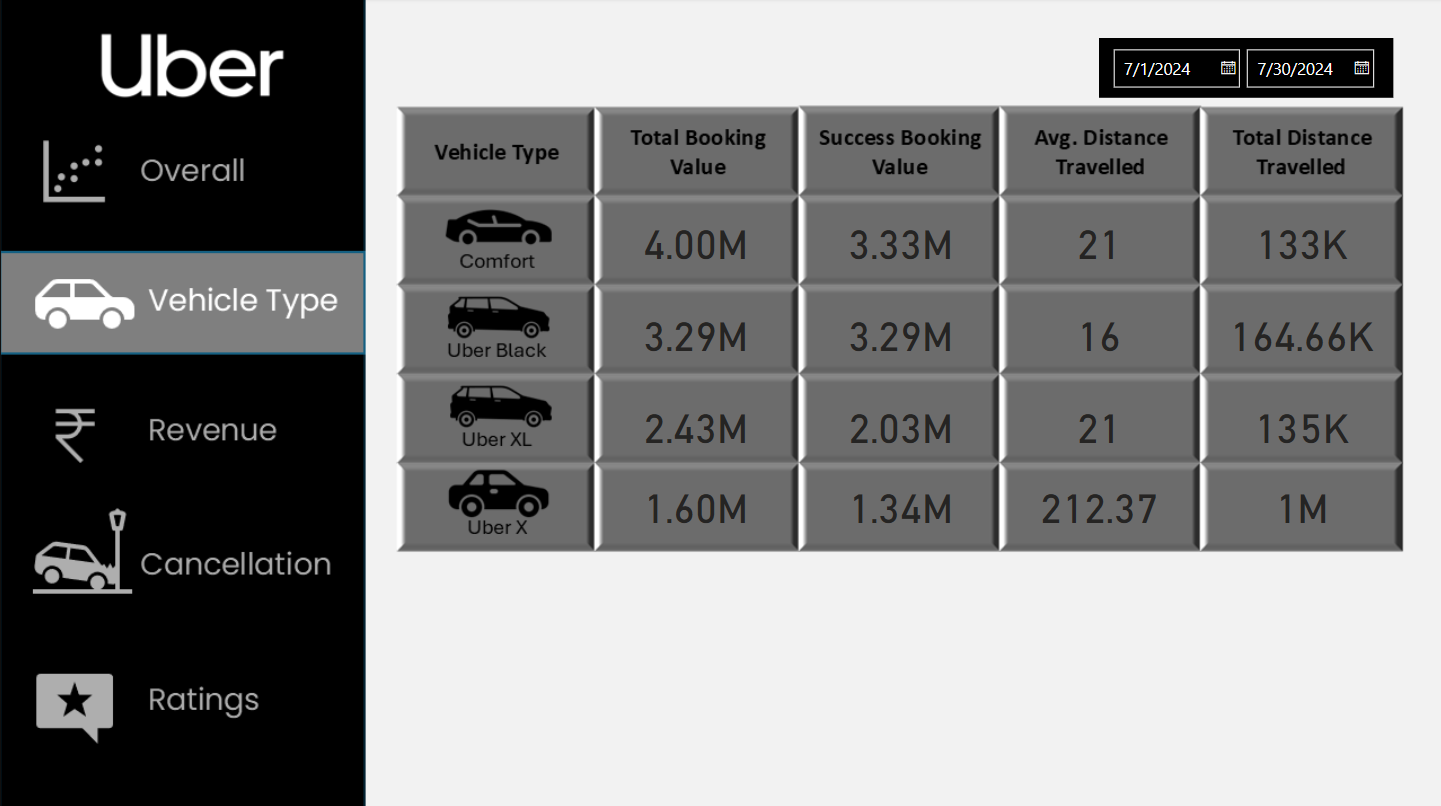

What the dashboard file says about the page in this screenshot:
{"tool":"powerbi","page":{"name":"Vehicle Type","canvas":[1280,720],"ordinal":1},"visuals":[{"type":"actionButton","box":[0,449.6,325.4,97.5],"z":0},{"type":"actionButton","box":[0,580.8,325.4,86.9],"z":1000},{"type":"actionButton","box":[0,342.3,325.4,91.3],"z":2000},{"type":"actionButton","box":[0,109.1,325.4,91.3],"z":3000},{"type":"card","fields":{"Values":["Sum(July.Booking_Value)"]},"box":[535.7,180,162.9,70],"z":4000},{"type":"card","fields":{"Values":["Sum(July.Booking_Value)"]},"box":[535.7,342.9,162.9,70],"z":5000},{"type":"card","fields":{"Values":["Sum(July.Booking_Value)"]},"box":[535.7,414.3,162.9,70],"z":6000},{"type":"card","fields":{"Values":["Sum(July.Booking_Value)"]},"box":[717.1,180,162.9,70],"z":7000},{"type":"card","fields":{"Values":["Sum(July.Booking_Value)"]},"box":[717.1,261.4,162.9,70],"z":8000},{"type":"card","fields":{"Values":["Sum(July.Booking_Value)"]},"box":[717.1,342.9,162.9,70],"z":9000},{"type":"card","fields":{"Values":["Sum(July.Booking_Value)"]},"box":[717.1,414.3,162.9,70],"z":10000},{"type":"card","fields":{"Values":["Sum(July.Booking_Value)"]},"box":[535.7,261.4,162.9,70],"z":11000},{"type":"card","fields":{"Values":["Avg(July.Ride_Distance)"]},"box":[892.9,180,162.9,70],"z":12000},{"type":"card","fields":{"Values":["Avg(July.Ride_Distance)"]},"box":[892.9,261.4,162.9,70],"z":13000},{"type":"card","fields":{"Values":["Avg(July.Ride_Distance)"]},"box":[892.9,342.9,162.9,70],"z":14000},{"type":"card","fields":{"Values":["Avg(July.Booking_Value)"]},"box":[892.9,414.3,162.9,70],"z":15000},{"type":"card","fields":{"Values":["Sum(July.Ride_Distance)"]},"box":[1072.9,180,162.9,70],"z":16000},{"type":"card","fields":{"Values":["Sum(July.Ride_Distance)"]},"box":[1072.9,261.4,162.9,70],"z":17000},{"type":"card","fields":{"Values":["Sum(July.Ride_Distance)"]},"box":[1072.9,342.9,162.9,70],"z":18000},{"type":"card","fields":{"Values":["Sum(July.Booking_Value)"]},"box":[1072.9,414.3,162.9,70],"z":19000},{"type":"slicer","title":"Date","fields":{"Values":["July.Date"]},"box":[974.3,35.7,261.4,52.9],"z":20000}]}

Visuals, with their boxes in screenshot pixels (x1, y1, x2, y2), scaled from the page's 1280x720 canvas onto the 1441x806 screenshot:
actionButton: bbox=[0, 503, 366, 612]
actionButton: bbox=[0, 650, 366, 747]
actionButton: bbox=[0, 383, 366, 485]
actionButton: bbox=[0, 122, 366, 224]
card - Sum(July.Booking_Value): bbox=[603, 202, 786, 280]
card - Sum(July.Booking_Value): bbox=[603, 384, 786, 462]
card - Sum(July.Booking_Value): bbox=[603, 464, 786, 542]
card - Sum(July.Booking_Value): bbox=[807, 202, 991, 280]
card - Sum(July.Booking_Value): bbox=[807, 293, 991, 371]
card - Sum(July.Booking_Value): bbox=[807, 384, 991, 462]
card - Sum(July.Booking_Value): bbox=[807, 464, 991, 542]
card - Sum(July.Booking_Value): bbox=[603, 293, 786, 371]
card - Avg(July.Ride_Distance): bbox=[1005, 202, 1189, 280]
card - Avg(July.Ride_Distance): bbox=[1005, 293, 1189, 371]
card - Avg(July.Ride_Distance): bbox=[1005, 384, 1189, 462]
card - Avg(July.Booking_Value): bbox=[1005, 464, 1189, 542]
card - Sum(July.Ride_Distance): bbox=[1208, 202, 1391, 280]
card - Sum(July.Ride_Distance): bbox=[1208, 293, 1391, 371]
card - Sum(July.Ride_Distance): bbox=[1208, 384, 1391, 462]
card - Sum(July.Booking_Value): bbox=[1208, 464, 1391, 542]
"Date" slicer: bbox=[1097, 40, 1391, 99]
